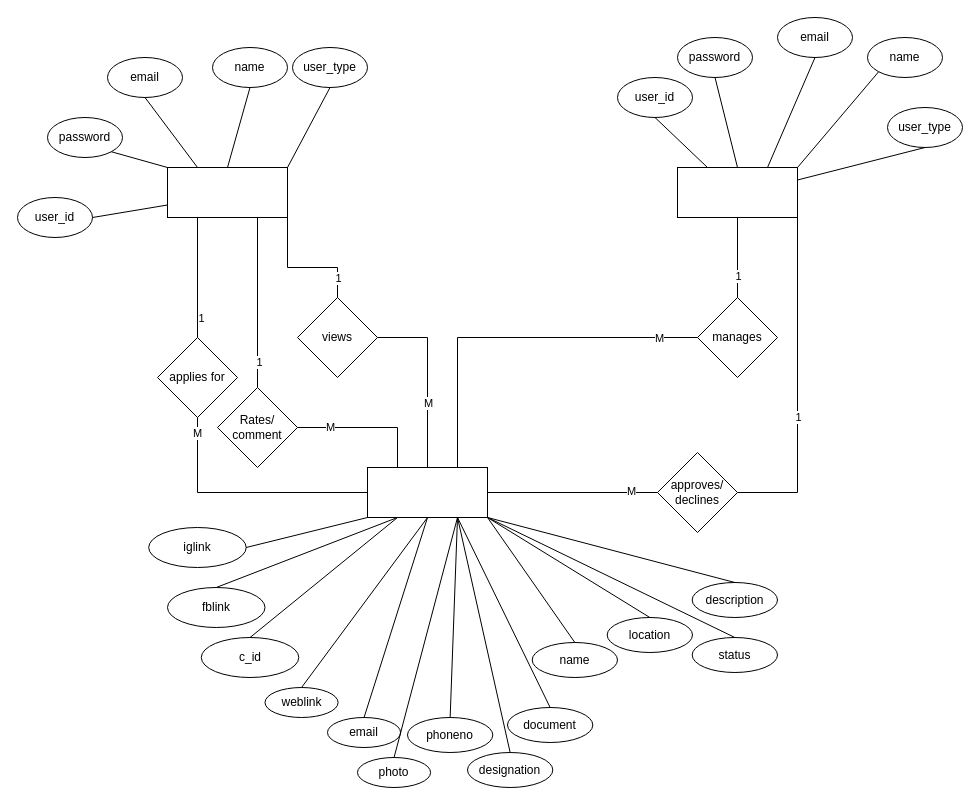
Image size: 980x805. Some labels were removed from this diagram. The box of each missing label's shape, as (x1, y1, x2, y2) in pixels:
Admin: (676, 166, 798, 218)
contacts: (366, 466, 488, 518)
Users: (166, 166, 288, 218)
